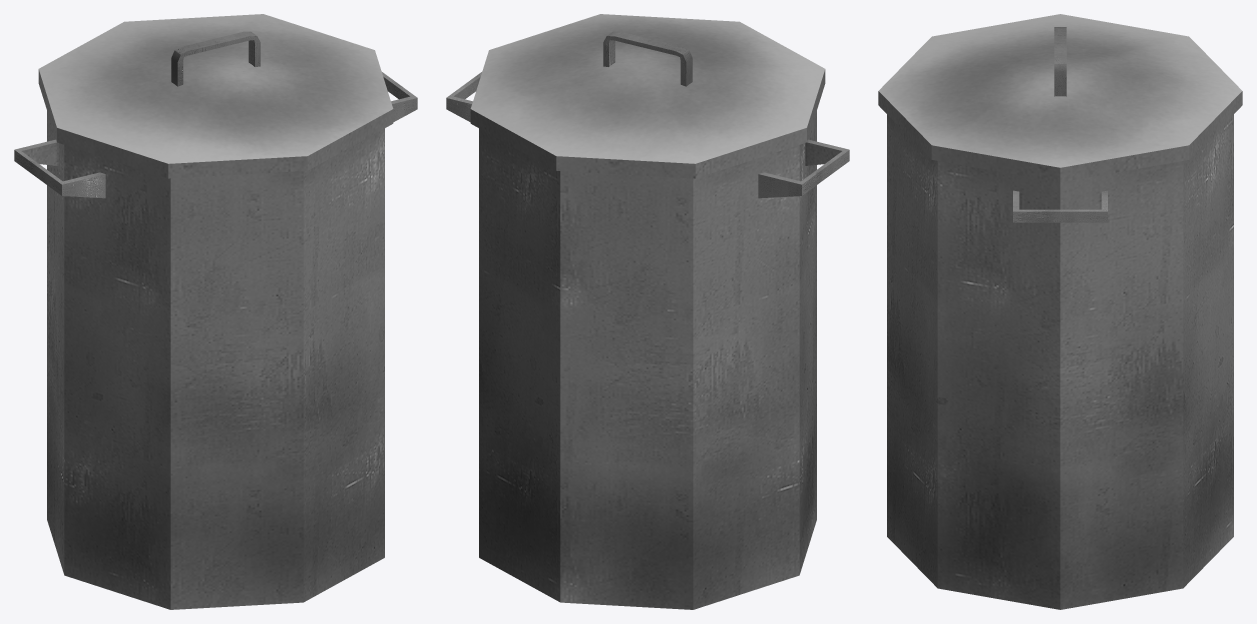
Rendered from trashCan1.glb.
3 views of the same model, side by side, from view 1: azimuth 30°, elevation 25°; view 2: azimuth 150°, elevation 25°; view 3: azimuth 270°, elevation 25° (orthographic).
Parts seen in each view (by area): view 1: SM_TrashCan01; view 2: SM_TrashCan01; view 3: SM_TrashCan01.
Part boxes in pixels (box(x1,y1,x2,y2)): SM_TrashCan01: box(14, 14, 417, 609); SM_TrashCan01: box(446, 14, 849, 609); SM_TrashCan01: box(878, 14, 1242, 609).
Bounding box in the file's own units: 0.6353 × 0.8482 × 0.5679.
Materials: 1 (1 with a texture image).
